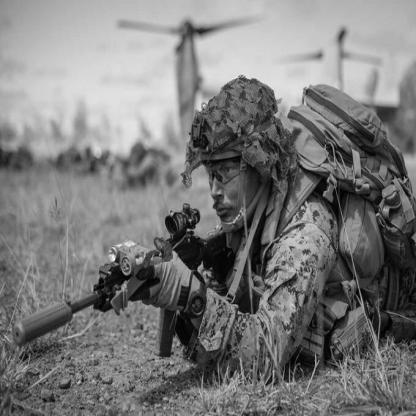V22: (115, 14, 403, 145)
